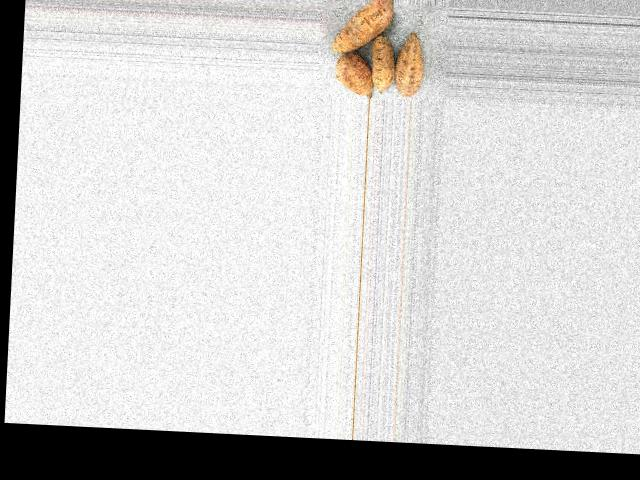sweet_potato: (325, 0, 400, 55)
